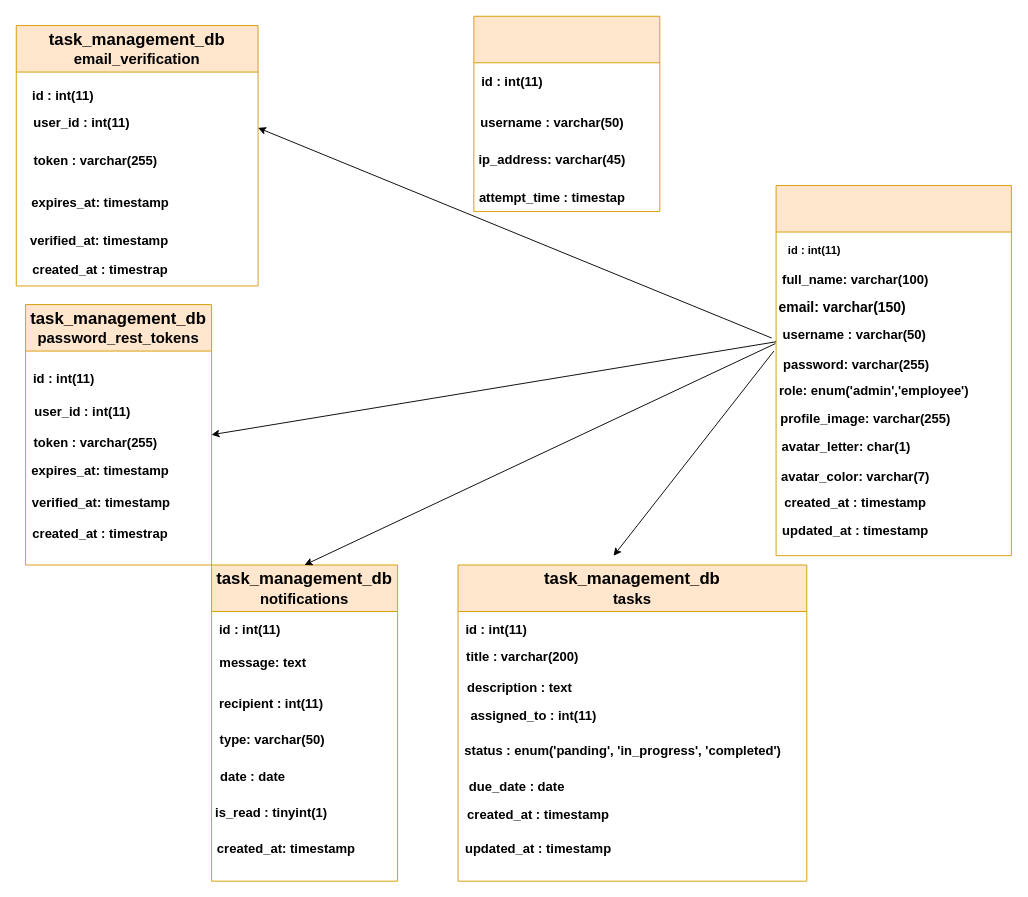
Some shapes in this 1028 by 897 pixel diagram are drawn without their labels. The box of each missing label's shape, as (x1, y1, x2, y2) in pixels:
task_management_db login attempts: (473, 15, 660, 212)
task_management_db Users: (775, 185, 1011, 556)
